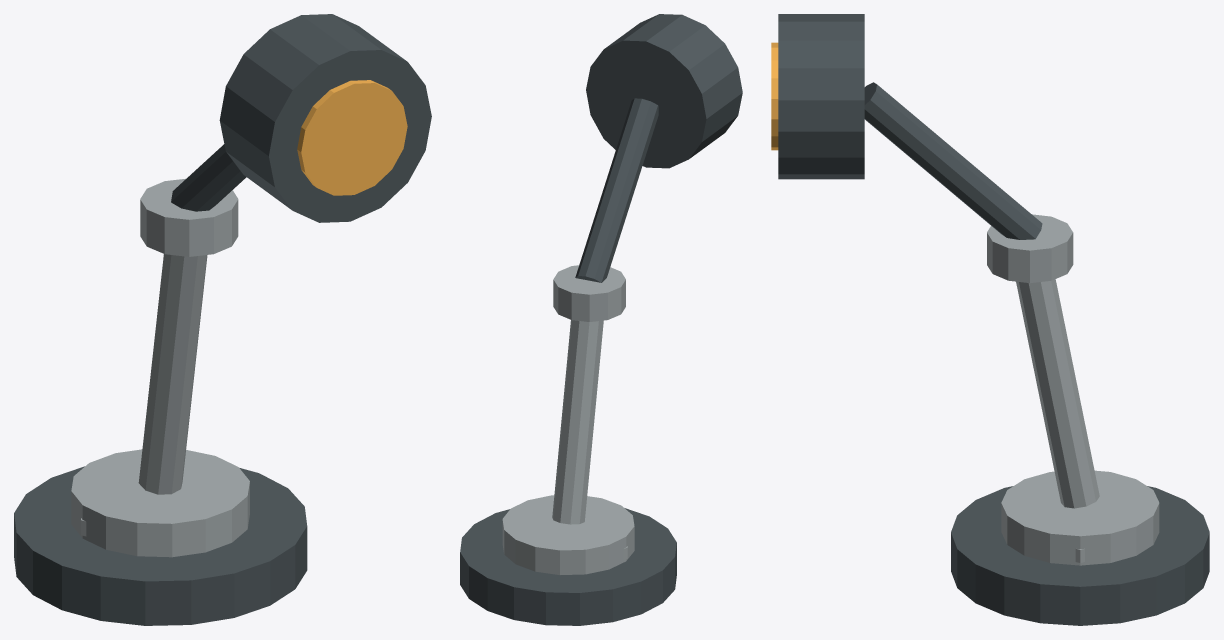
File: lab_inspection_lamp.glb
The picture shows the model from 3 angles, left to right: view 1: azimuth 30°, elevation 25°; view 2: azimuth 150°, elevation 25°; view 3: azimuth 270°, elevation 25°; orthographic projection. The views are drawn at different scales.
Visible parts, largest first — view 1: lab_inspection_lamp; view 2: lab_inspection_lamp; view 3: lab_inspection_lamp.
Part boxes in pixels (x1,y1,x2,y2): lab_inspection_lamp: [14, 14, 431, 625]; lab_inspection_lamp: [460, 14, 742, 625]; lab_inspection_lamp: [771, 14, 1209, 625].
Size of the model in its own units: 0.72 by 1.71 by 1.22.
